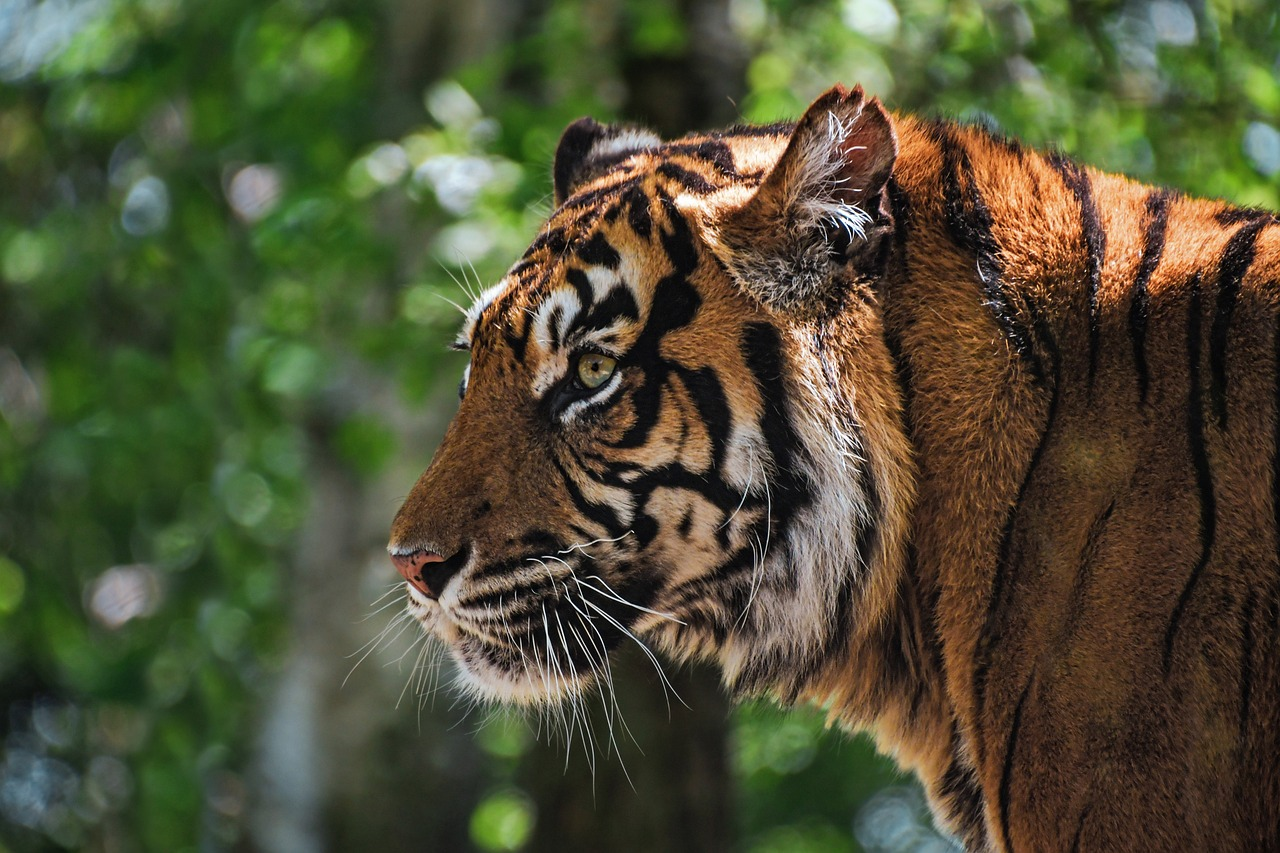tiger: (357, 61, 985, 712)
